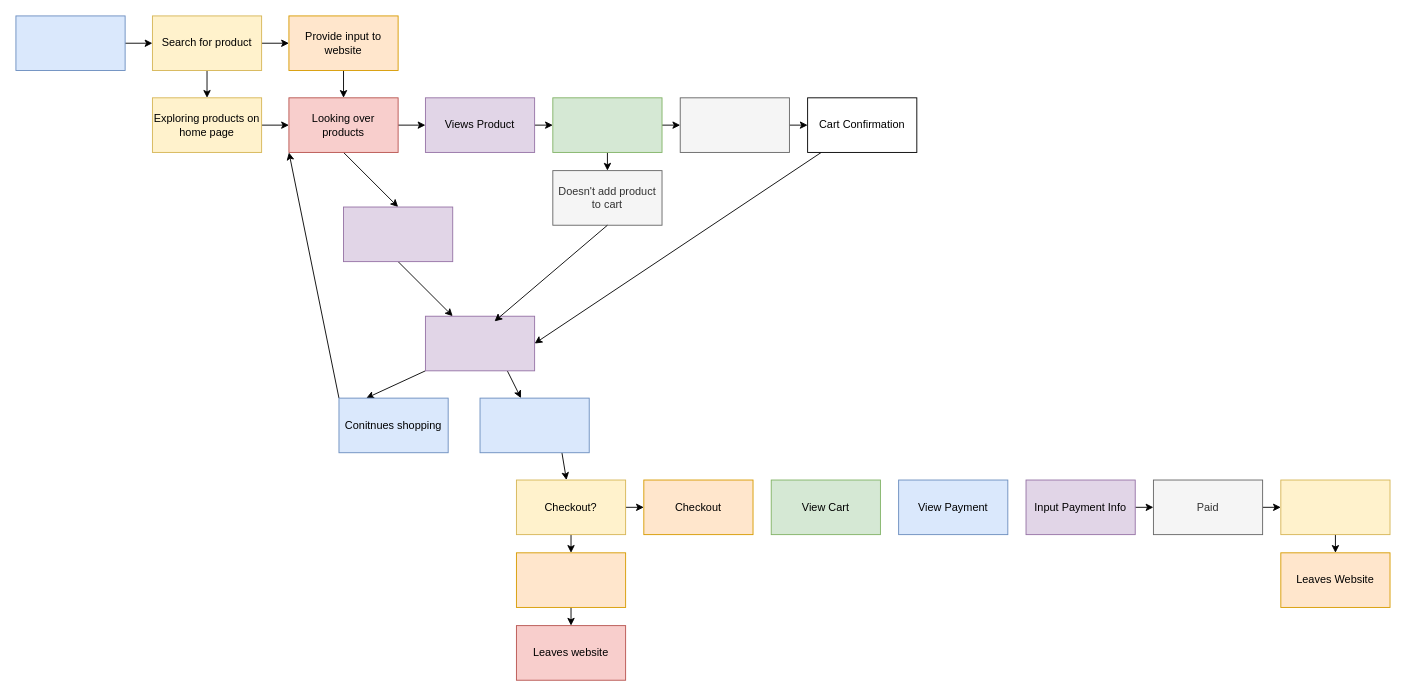
Some shapes in this 1406 by 696 pixel diagram are drawn without their labels. The box of each missing label's shape, as (x1, y1, x2, y2) in pixels:
Adds product to cart: (679, 97, 789, 152)
Continue Shopping?: (425, 315, 535, 371)
Doesn't checkout: (516, 552, 626, 607)
Doesn't View product: (343, 206, 453, 262)
Enters Website: (15, 15, 125, 71)
Order & Email Confirmation: (1280, 479, 1390, 535)
Product Webpage: (552, 97, 662, 152)
Stops Shopping: (479, 397, 589, 453)
